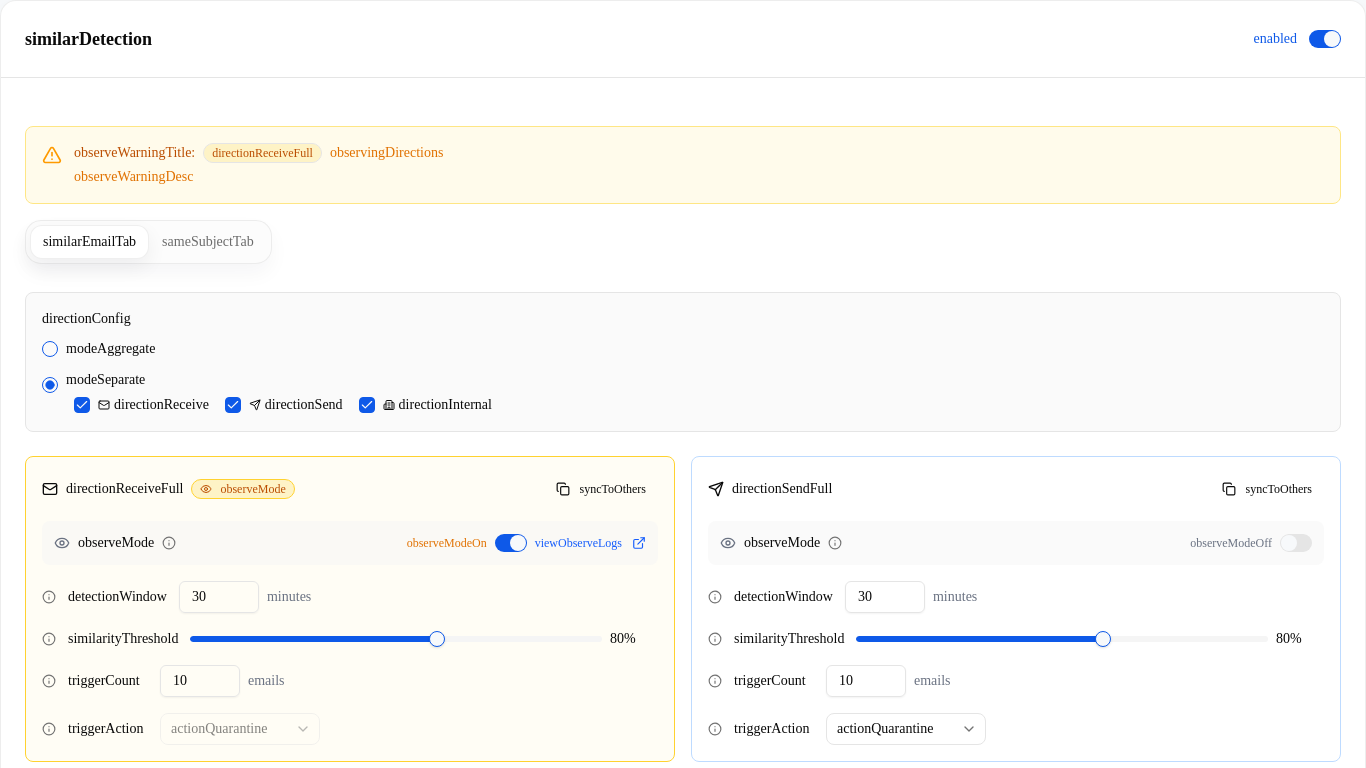
it: SimilarDetectionPage › 切到聚合模式：单张聚合卡替代三张方向卡，隐藏方向复选行
Click the radio button with test id "similar-detection-mode-aggregate" at (50, 349), box [42,341,58,357]
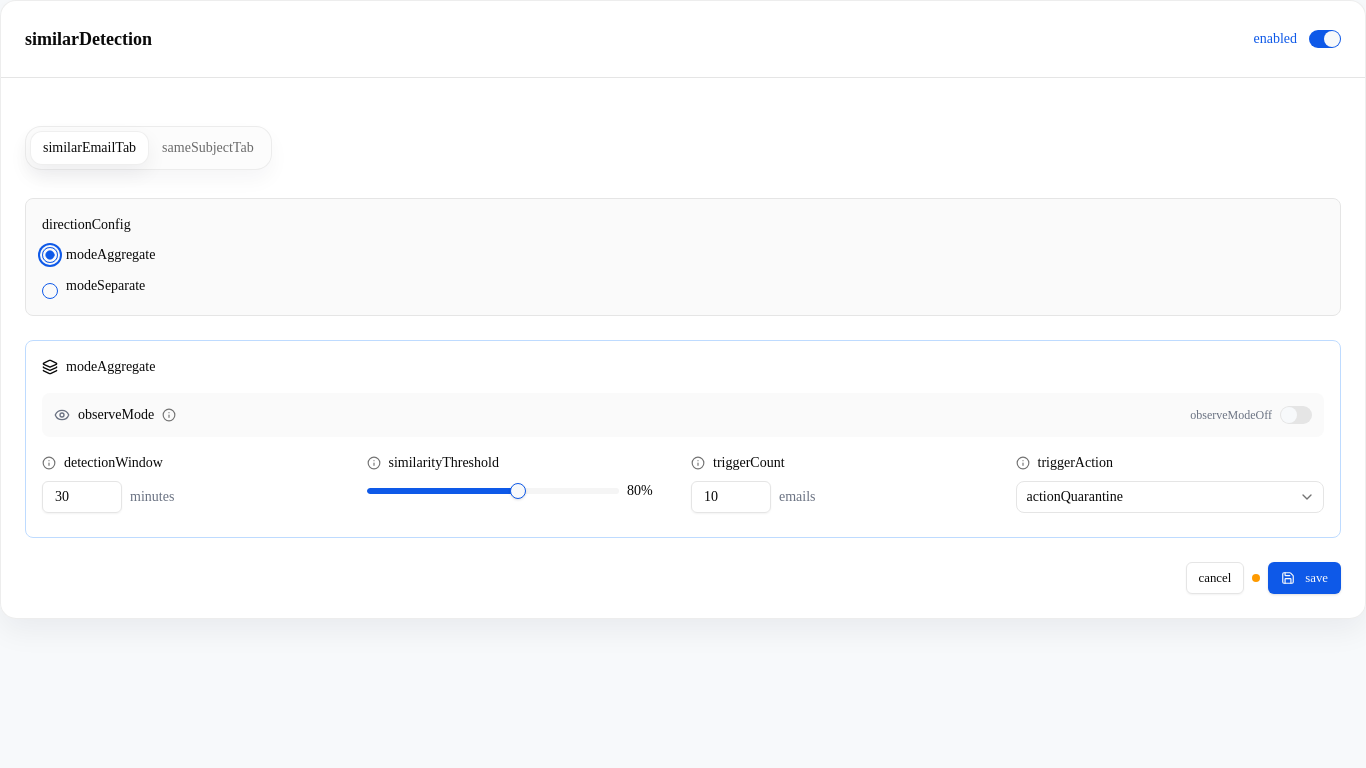
Result: the element with test id "similar-detection-card-aggregate" is shown at [25,340,1341,538]
Result: the element with test id "similar-detection-card-receive" is gone
Result: the checkbox with test id "similar-detection-dir-receive" is gone
